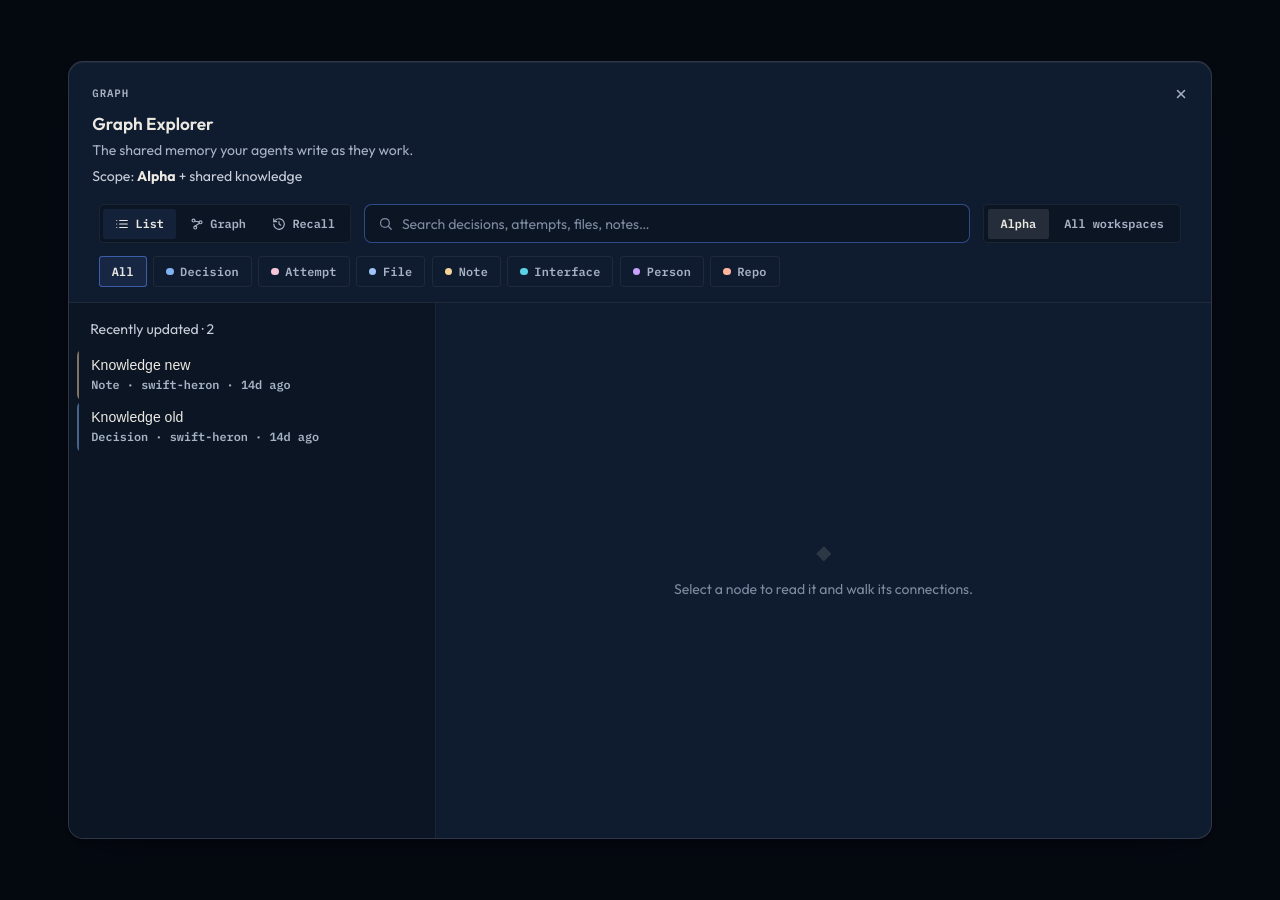
Test case: contextual memory exploration › discards stale neighbors and can open a connected record outside the current search
The image size is (1280, 900).
Click the button "Knowledge new Note · swift-heron · 14d ago" at (252, 375), box [77,349,426,401]
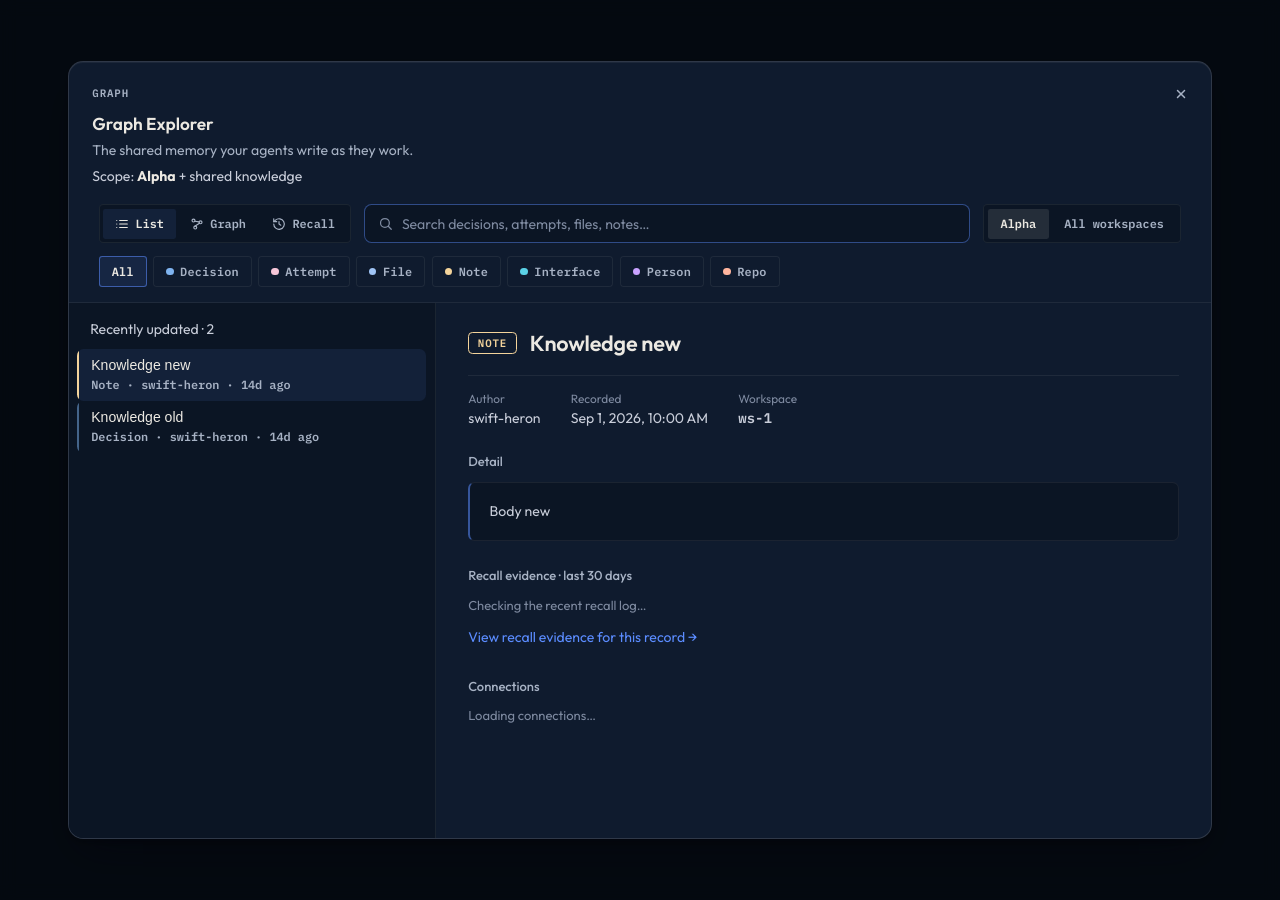
Click the button "Knowledge old Decision · swift-heron · 14d ago" at (252, 427), box [77,401,426,453]
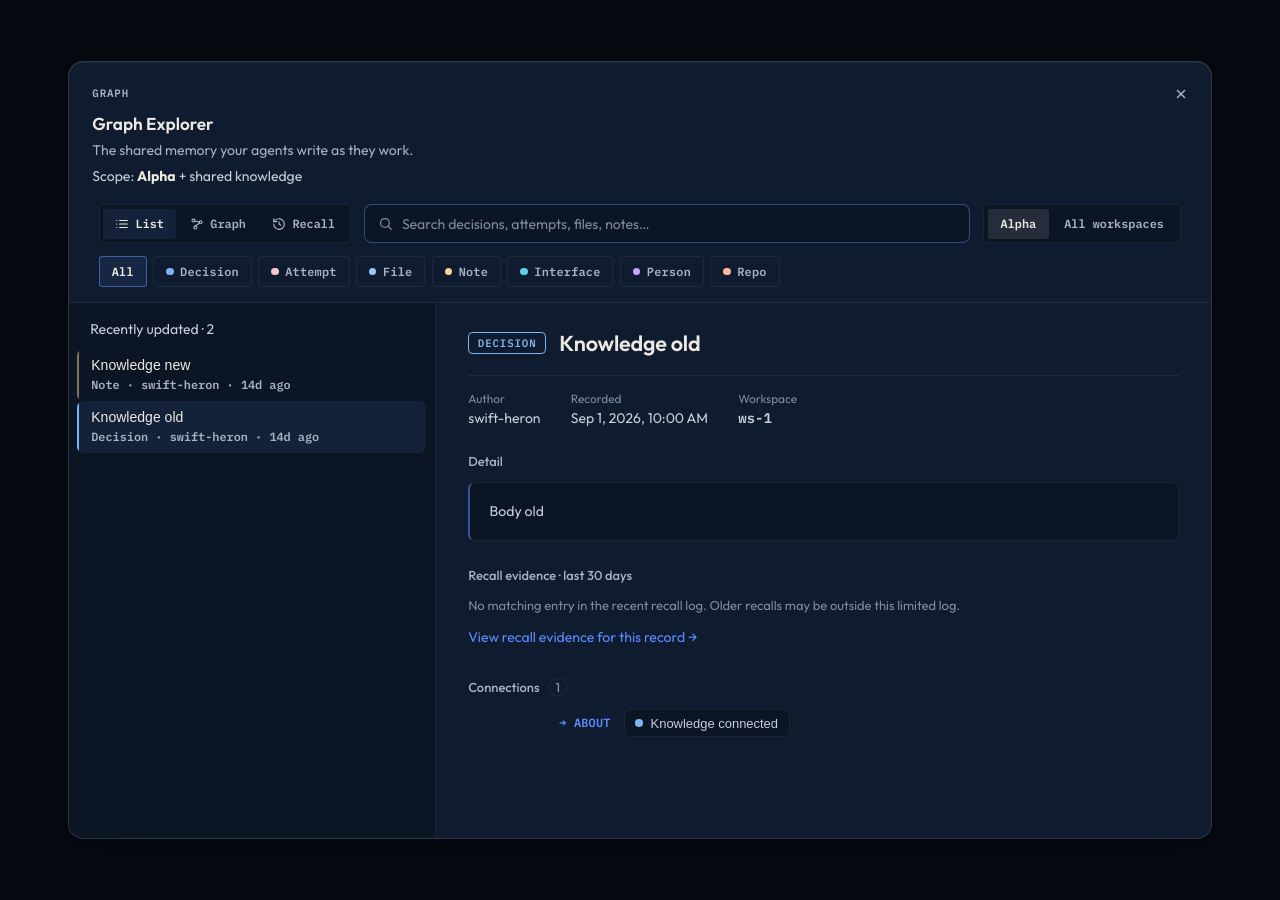
Click the button "Knowledge connected" at (707, 723), box [624,709,790,737]
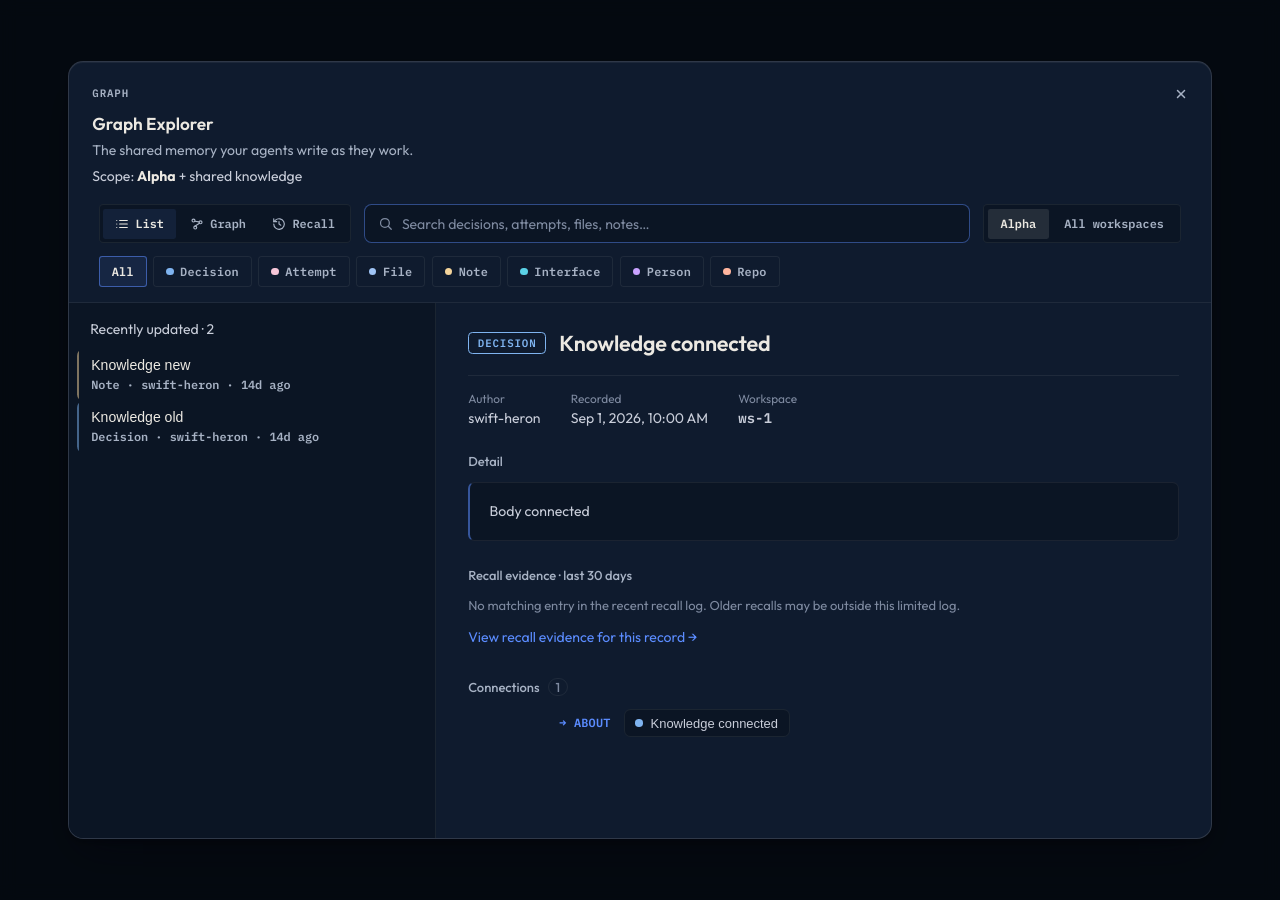
Expected: the heading "Knowledge connected" is shown, [559,331,770,356]
Expected: the text "Body connected" is shown, [468,482,1179,541]
